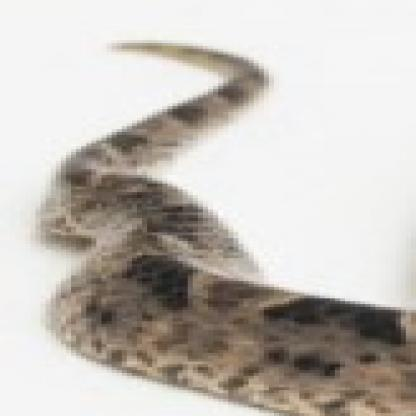snakes: (39, 31, 416, 415)
